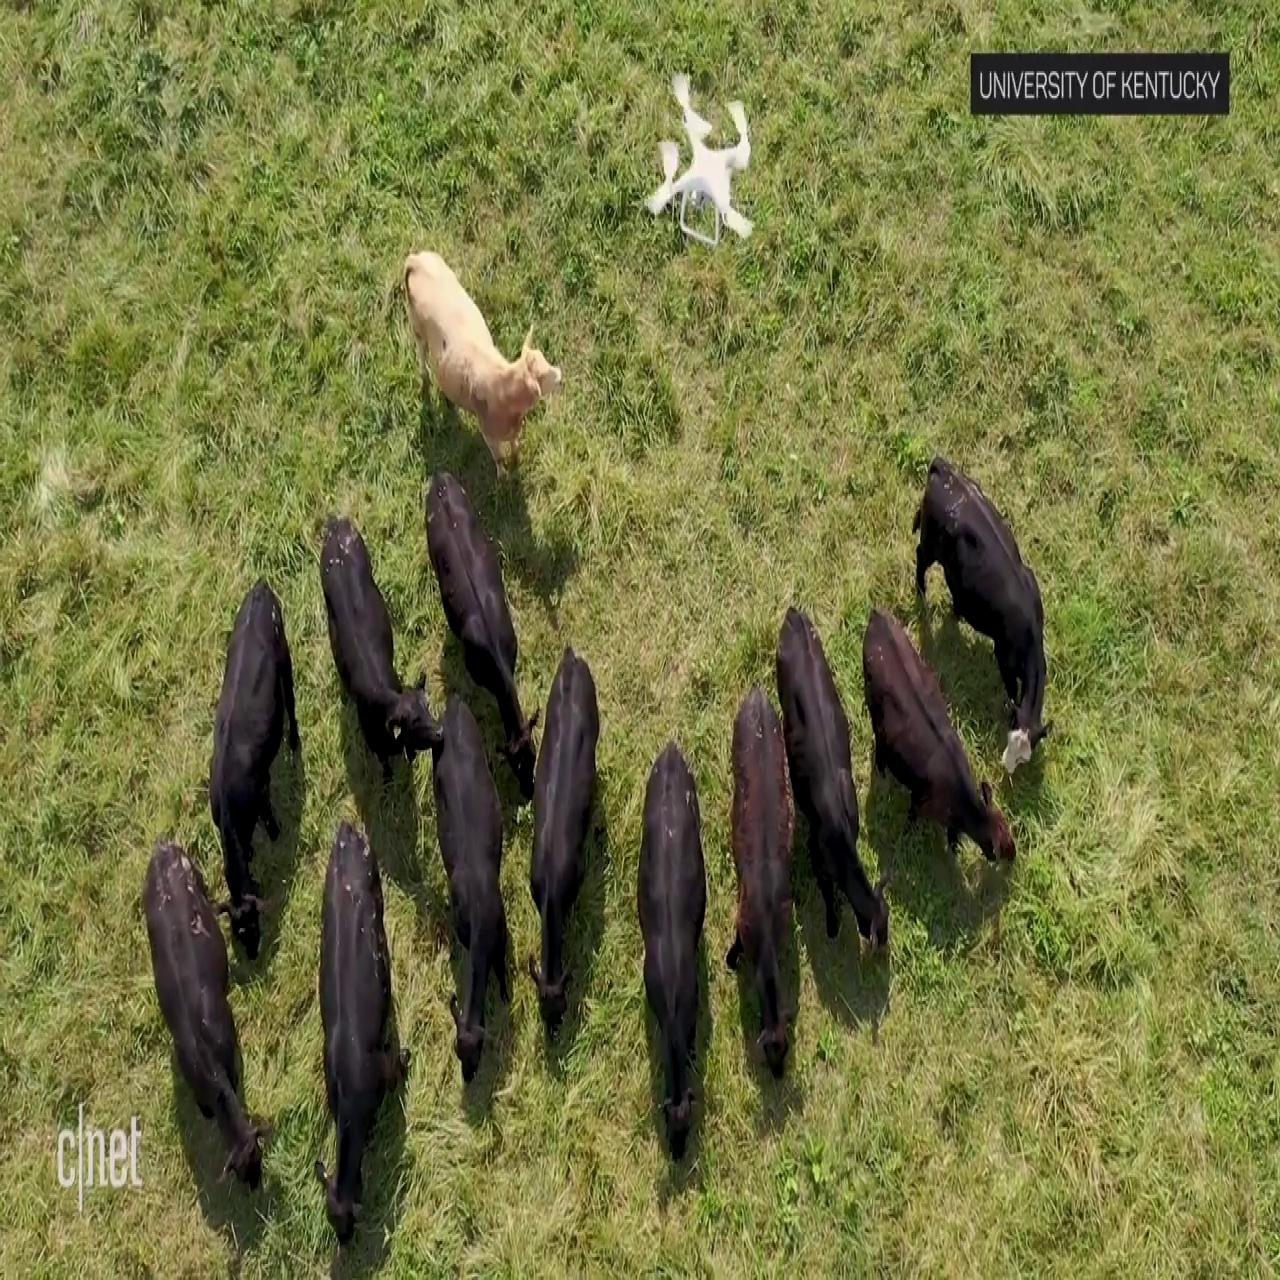cow: (128, 837, 272, 1208), (309, 795, 422, 1257), (907, 447, 1057, 785), (614, 720, 723, 1180), (764, 592, 896, 960), (418, 679, 533, 1097), (850, 601, 1020, 878), (516, 633, 622, 1049), (392, 231, 561, 485), (712, 667, 809, 1091), (418, 468, 542, 801), (199, 567, 304, 960), (311, 482, 443, 761)
